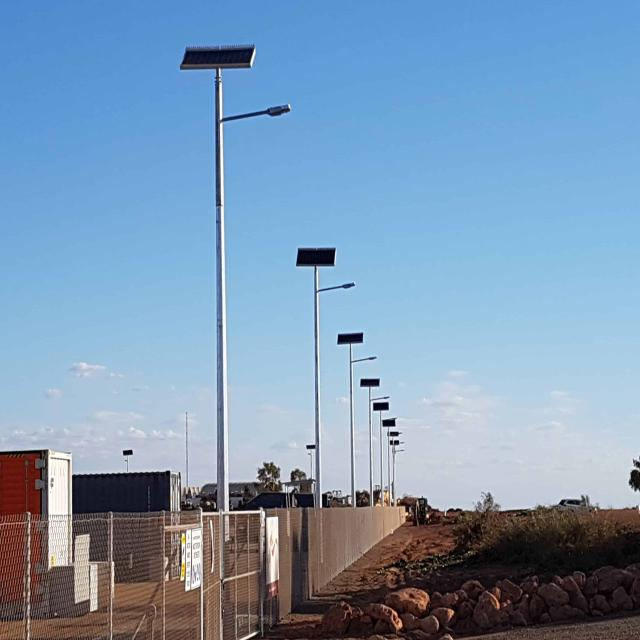Street Light: (215, 104, 291, 606), (315, 282, 355, 564), (350, 356, 377, 546), (369, 394, 392, 526)
